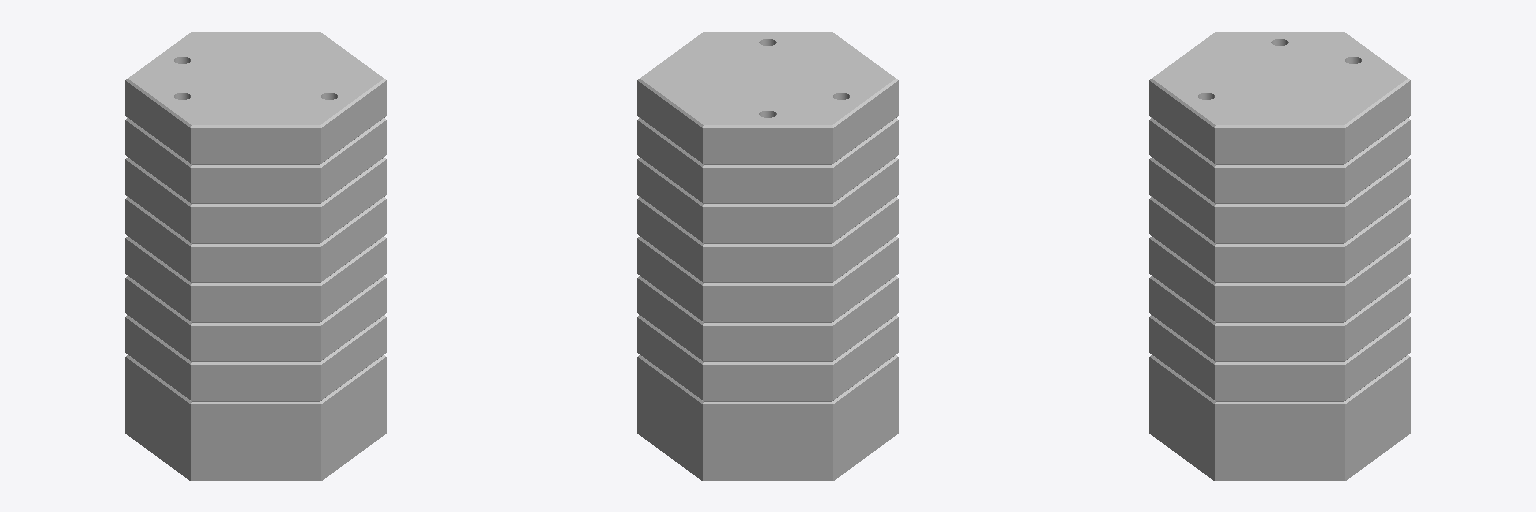
Rendered from lvl8C.obj.
3 renders of one model, left to right at view 1: azimuth 30°, elevation 25°; view 2: azimuth 150°, elevation 25°; view 3: azimuth 270°, elevation 25°, orthographic.
Visible parts, largest first — view 1: Lvl8C-3_(Mono-NoMags); view 2: Lvl8C-3_(Mono-NoMags); view 3: Lvl8C-3_(Mono-NoMags).
Part boxes in pixels (x1,y1,x2,y2): Lvl8C-3_(Mono-NoMags): (125, 32, 386, 480); Lvl8C-3_(Mono-NoMags): (637, 32, 898, 480); Lvl8C-3_(Mono-NoMags): (1149, 32, 1410, 480).
Size of the model in its own units: 3.13 by 5.43 by 3.62.